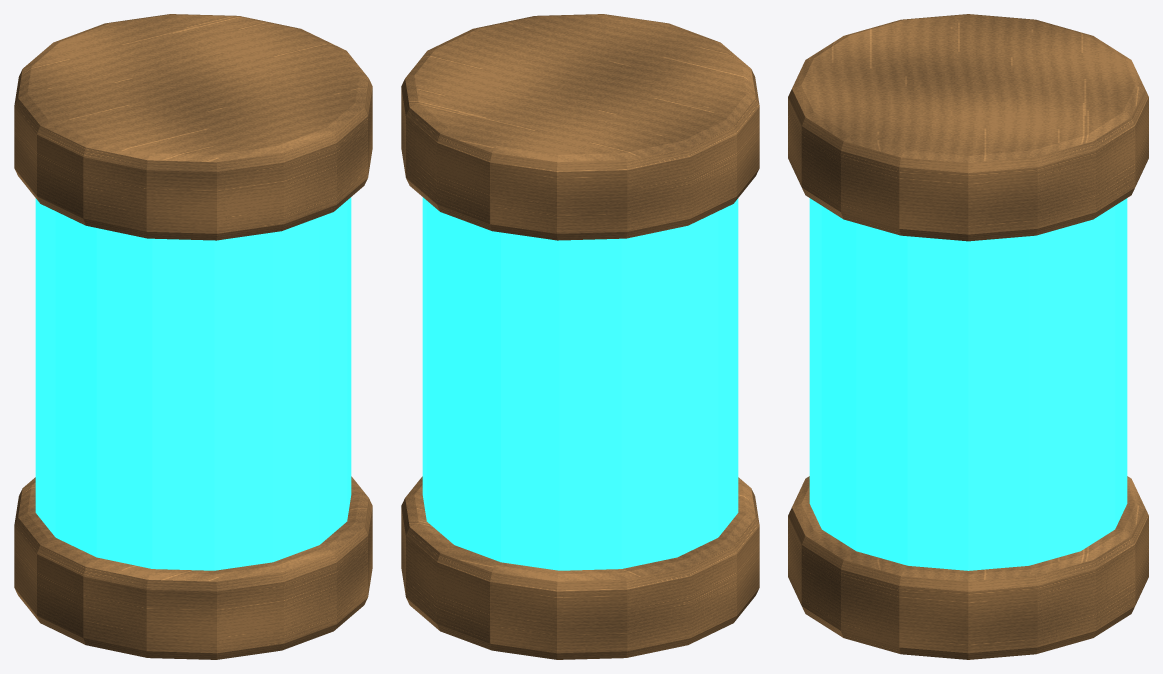
File: potion.glb
The picture shows the model from 3 angles, left to right: view 1: azimuth 30°, elevation 25°; view 2: azimuth 150°, elevation 25°; view 3: azimuth 270°, elevation 25°; orthographic projection.
Parts seen in each view (by area): view 1: potion; view 2: potion; view 3: potion.
Part boxes in pixels (left/top/right/bottom): potion: left=14, top=14, right=372, bottom=659; potion: left=401, top=14, right=759, bottom=659; potion: left=788, top=14, right=1148, bottom=659.
Size of the model in its own units: 0.5 by 0.77 by 0.5.
2 materials, 1 textured.
